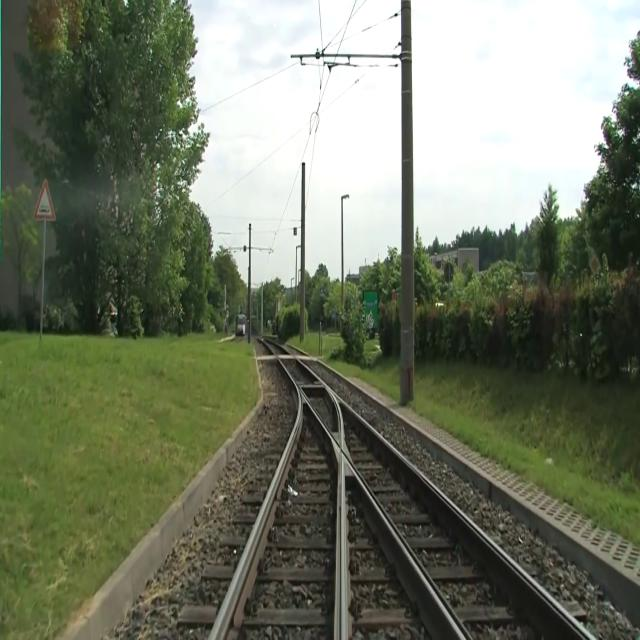rail-track: (340, 403, 586, 639), (215, 397, 341, 639), (269, 344, 339, 445), (259, 342, 282, 369)
